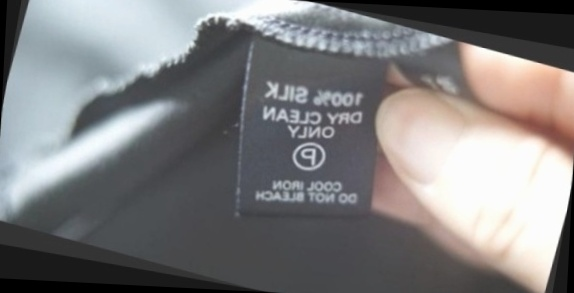dry_clean_any_solvent_except_trichloroethylene: (284, 133, 332, 178)
